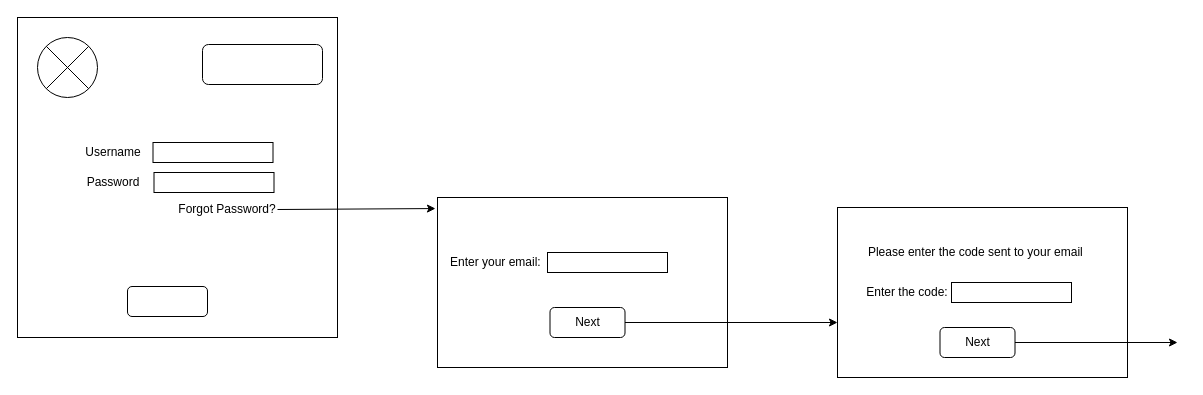
Some shapes in this 1203 by 395 pixel diagram are drawn without their labels. Each missing label, with the centre of its shape:
"Guest Mode" belongs at [262,64].
"Login" belongs at [167,301].
